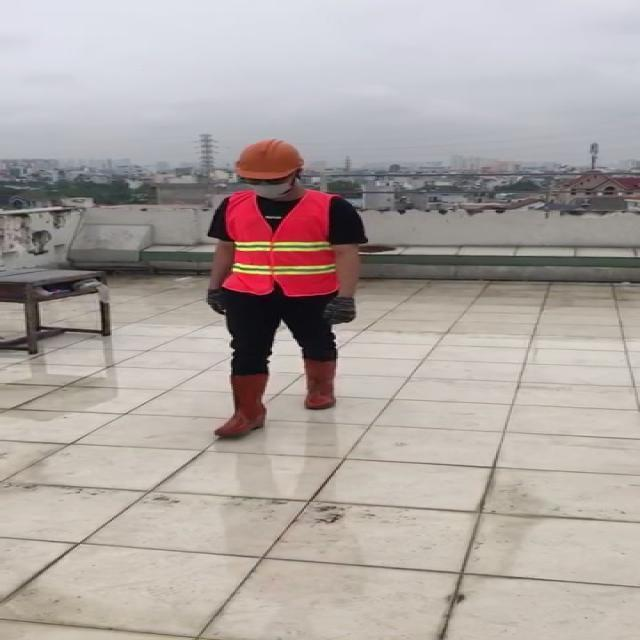gloves: (320, 290, 362, 328)
helmet: (230, 138, 313, 186)
safety_vest: (228, 187, 339, 299)
